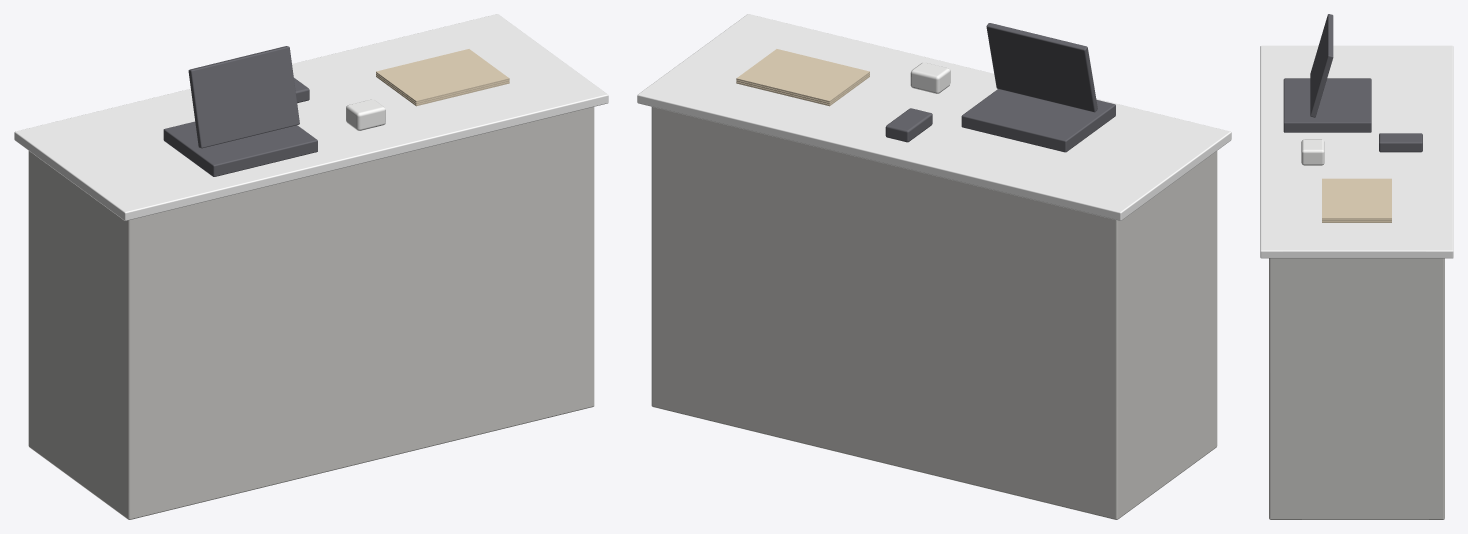
File: tienda.caja.fbx
3 views of the same model, side by side, from view 1: azimuth 30°, elevation 25°; view 2: azimuth 150°, elevation 25°; view 3: azimuth 270°, elevation 25° (orthographic). The views are drawn at different scales.
Visible parts, largest first — view 1: Meson, Cubierta, Pantalla de la caja, Base de la caja, Bolsa doblada.002, Rollo de boletas; view 2: Meson, Cubierta, Pantalla de la caja, Base de la caja, Bolsa doblada.002, Lector de tarjetas, Rollo de boletas; view 3: Meson, Cubierta, Base de la caja, Bolsa doblada.002, Pantalla de la caja, Lector de tarjetas, Rollo de boletas.
Boxes of the visible parts, x1=… form: Meson: x1=28, y1=107, x2=594, y2=519; Cubierta: x1=14, y1=14, x2=608, y2=220; Pantalla de la caja: x1=188, y1=46, x2=299, y2=148; Base de la caja: x1=163, y1=121, x2=317, y2=176; Bolsa doblada.002: x1=376, y1=49, x2=509, y2=102; Rollo de boletas: x1=346, y1=99, x2=385, y2=130; Meson: x1=651, y1=107, x2=1217, y2=519; Cubierta: x1=637, y1=14, x2=1231, y2=220; Pantalla de la caja: x1=986, y1=23, x2=1097, y2=112; Base de la caja: x1=961, y1=89, x2=1115, y2=152; Bolsa doblada.002: x1=736, y1=49, x2=869, y2=102; Lector de tarjetas: x1=885, y1=108, x2=932, y2=142; Rollo de boletas: x1=910, y1=62, x2=950, y2=93; Meson: x1=1269, y1=258, x2=1444, y2=519; Cubierta: x1=1260, y1=45, x2=1453, y2=258; Base de la caja: x1=1283, y1=78, x2=1371, y2=132; Bolsa doblada.002: x1=1322, y1=178, x2=1391, y2=219; Pantalla de la caja: x1=1310, y1=14, x2=1333, y2=117; Lector de tarjetas: x1=1379, y1=133, x2=1422, y2=152; Rollo de boletas: x1=1301, y1=139, x2=1324, y2=165.
Size of the model in its own units: 1.66 by 1.32 by 0.66.
